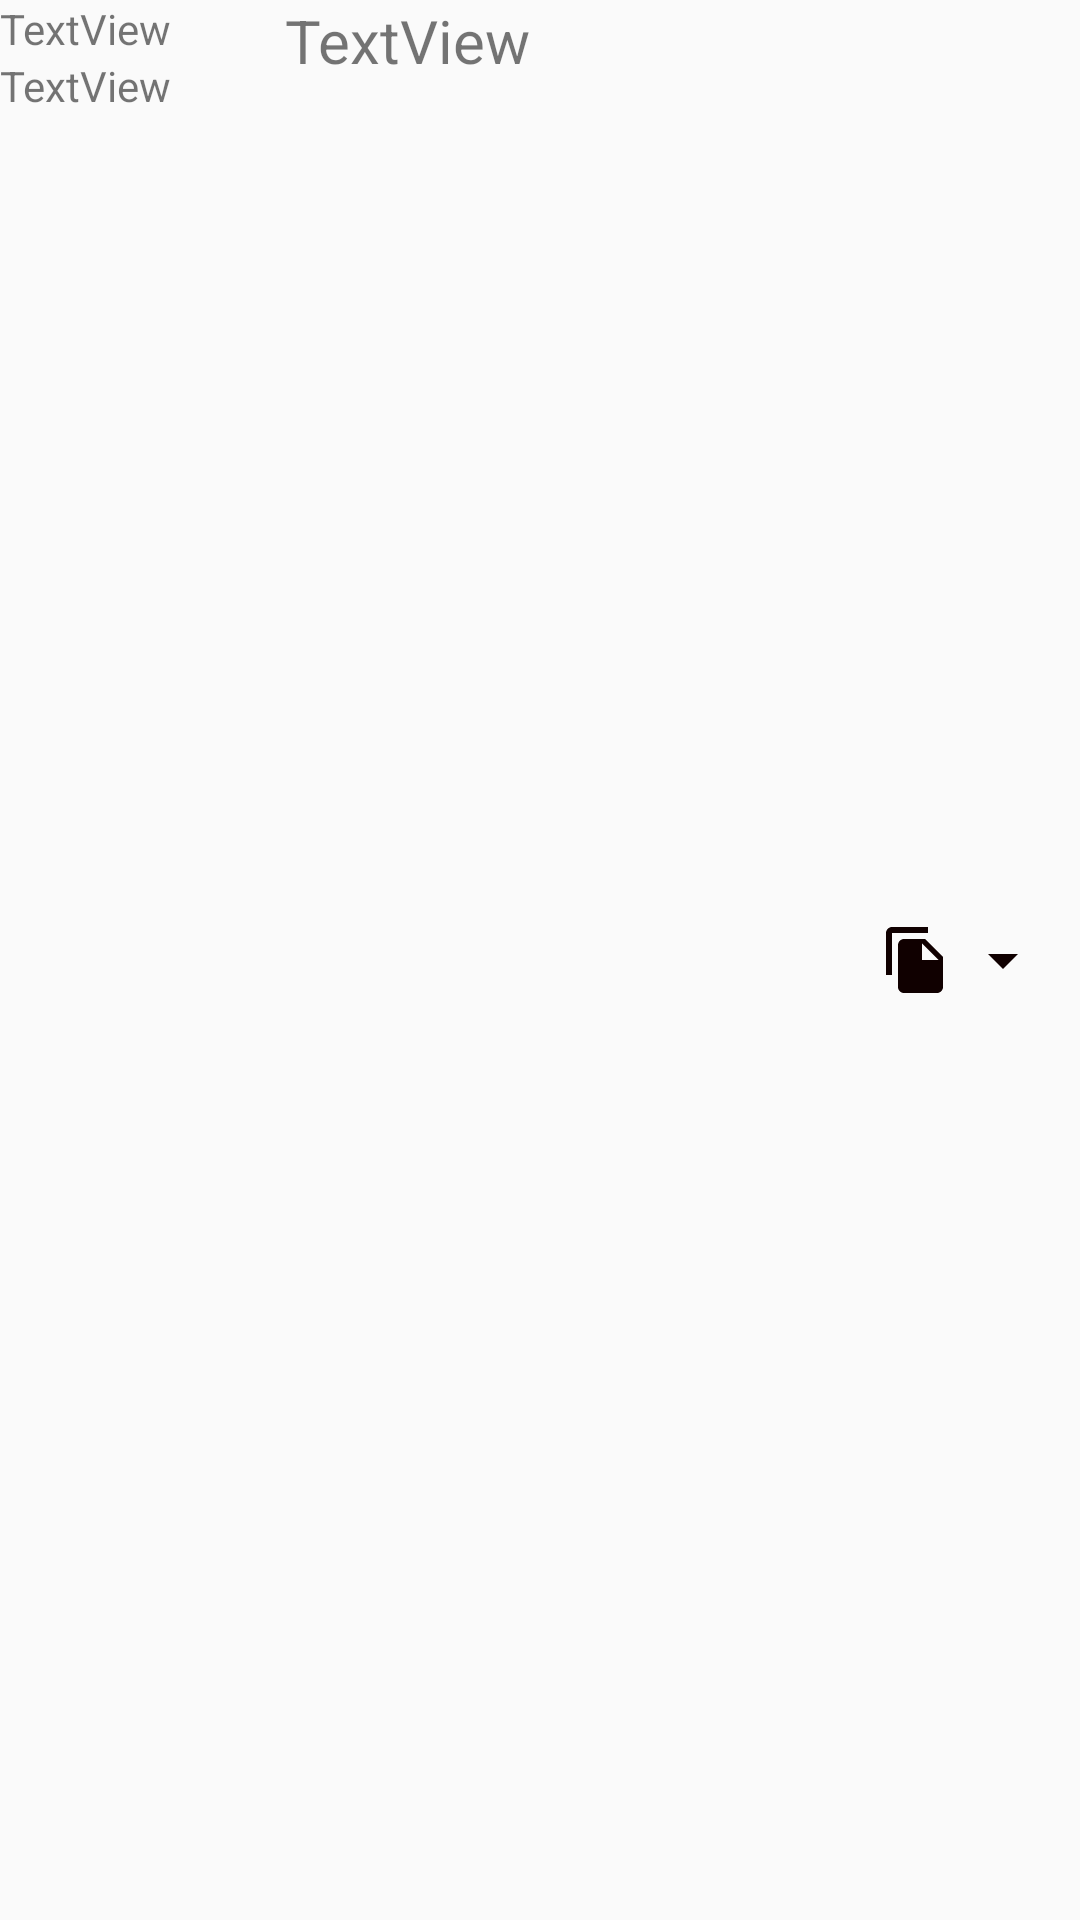

Icon click points for this 1080x1920 phone screenshot, format point (x, y):
arrow drop down: point (1003, 961)
file: point (914, 960)
